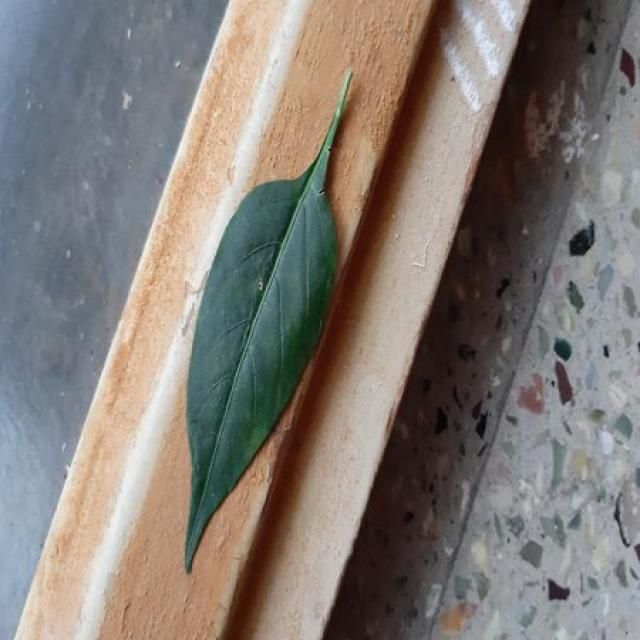chilly: (185, 70, 352, 572)
